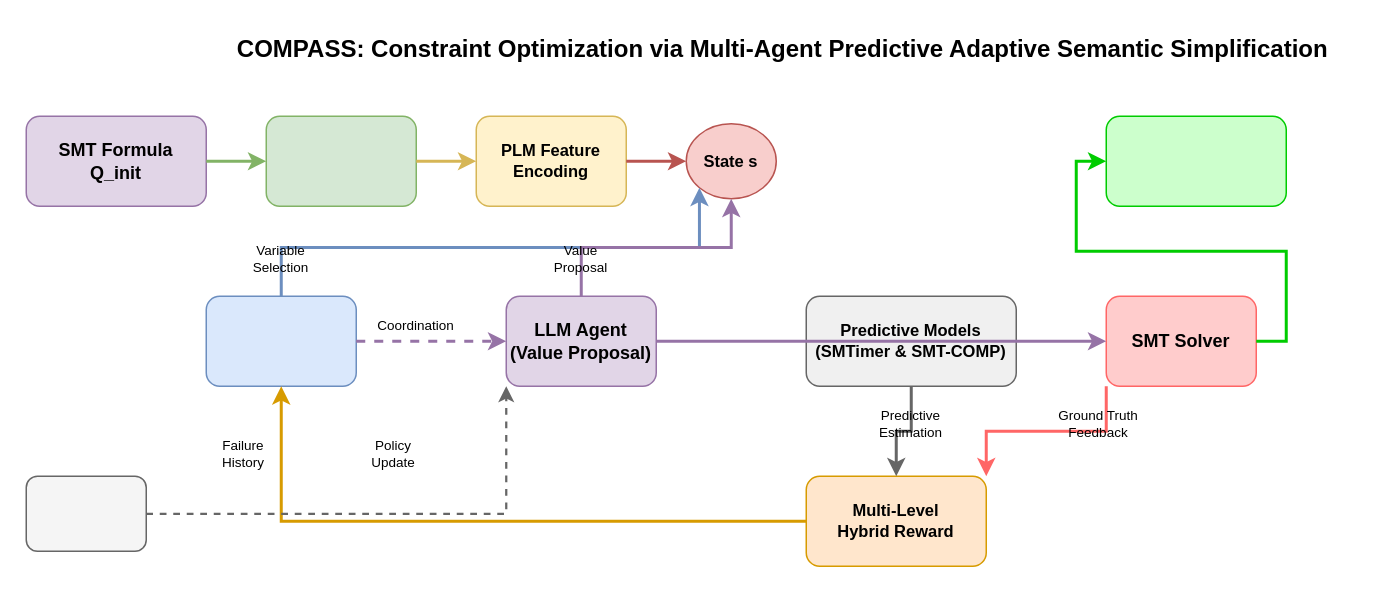
This 1386x593 diagram has some shape labels left out. The centre of each missing label's shape, as x and y in pixels:
"Counter Examples" goes at point 85,513.
"RL Agent (SAC)" goes at point 280,340.
"Simplified Formula or SAT/UNSAT" goes at point 1195,160.
"Variable Normalization" goes at point 340,160.
